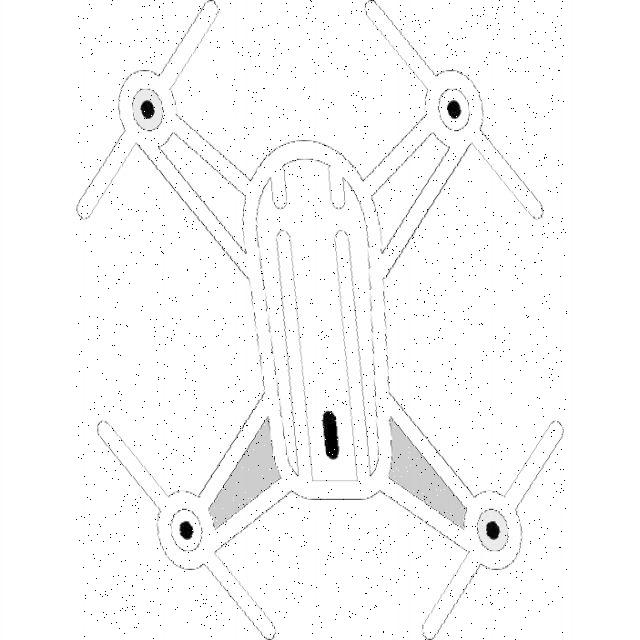drone: (77, 1, 568, 640)
